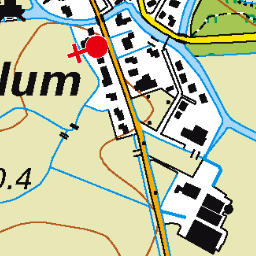church: (65, 34, 111, 66)
